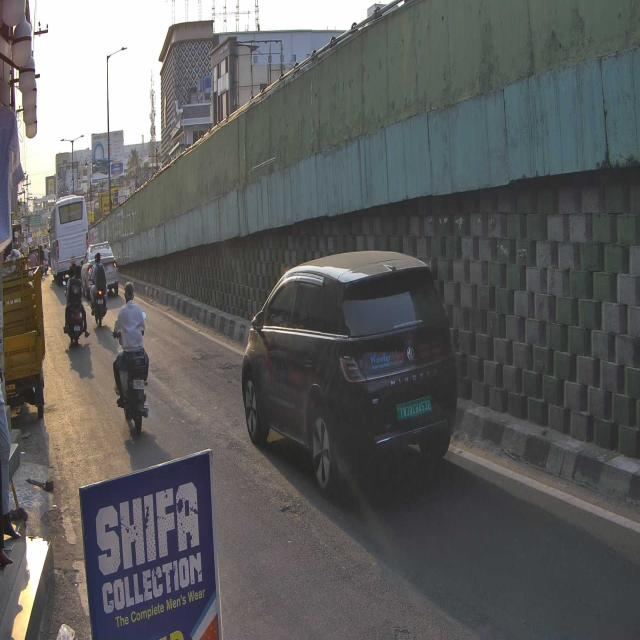single_rider: (113, 279, 150, 436)
